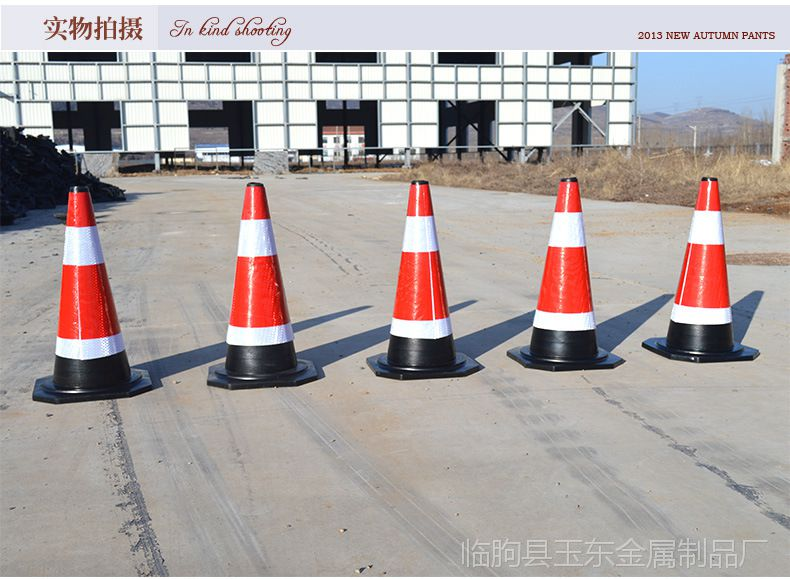traffic_cone: (170, 156, 353, 407), (21, 170, 166, 409), (342, 176, 490, 385), (505, 175, 624, 385), (670, 166, 775, 374)
